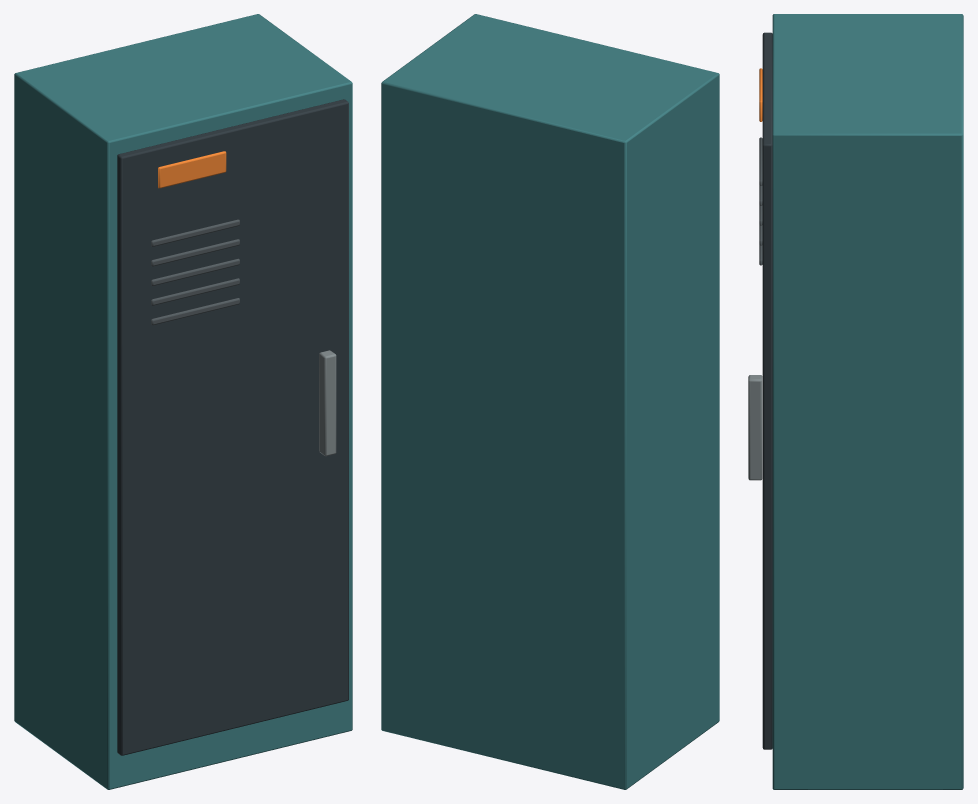
The model's file is nord01-security_locker-lod0.glb.
3 views of the same model, side by side, from view 1: azimuth 30°, elevation 25°; view 2: azimuth 150°, elevation 25°; view 3: azimuth 270°, elevation 25° (orthographic).
Visible parts, largest first — view 1: static; view 2: static; view 3: static.
Boxes of the visible parts, box(x1,y1,x2,y2) form: static: box(14, 14, 352, 789); static: box(381, 14, 719, 789); static: box(748, 14, 963, 789).
Size of the model in its own units: 0.72 by 1.82 by 0.5405.
